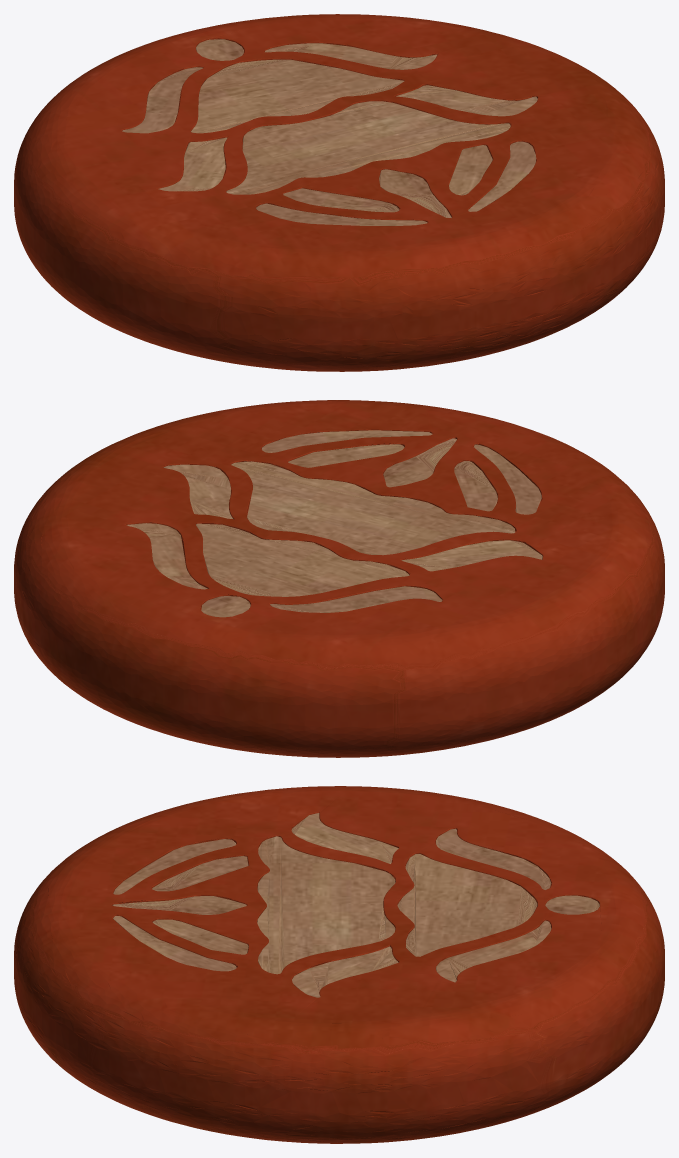
File: Tile_Jade.glb
The picture shows the model from 3 angles, top to bottom: view 1: azimuth 30°, elevation 25°; view 2: azimuth 150°, elevation 25°; view 3: azimuth 270°, elevation 25°; orthographic projection.
Parts seen in each view (by area): view 1: Tile, Face; view 2: Tile, Face; view 3: Tile, Face.
Boxes of the visible parts, box(x1,y1,x2,y2) form: Tile: box(14, 14, 664, 371); Face: box(122, 39, 537, 225); Tile: box(14, 400, 664, 757); Face: box(127, 430, 542, 617); Tile: box(14, 786, 664, 1143); Face: box(112, 813, 599, 997).
Size of the model in its own units: 2 by 0.4 by 2.
2 materials, 2 textured.
